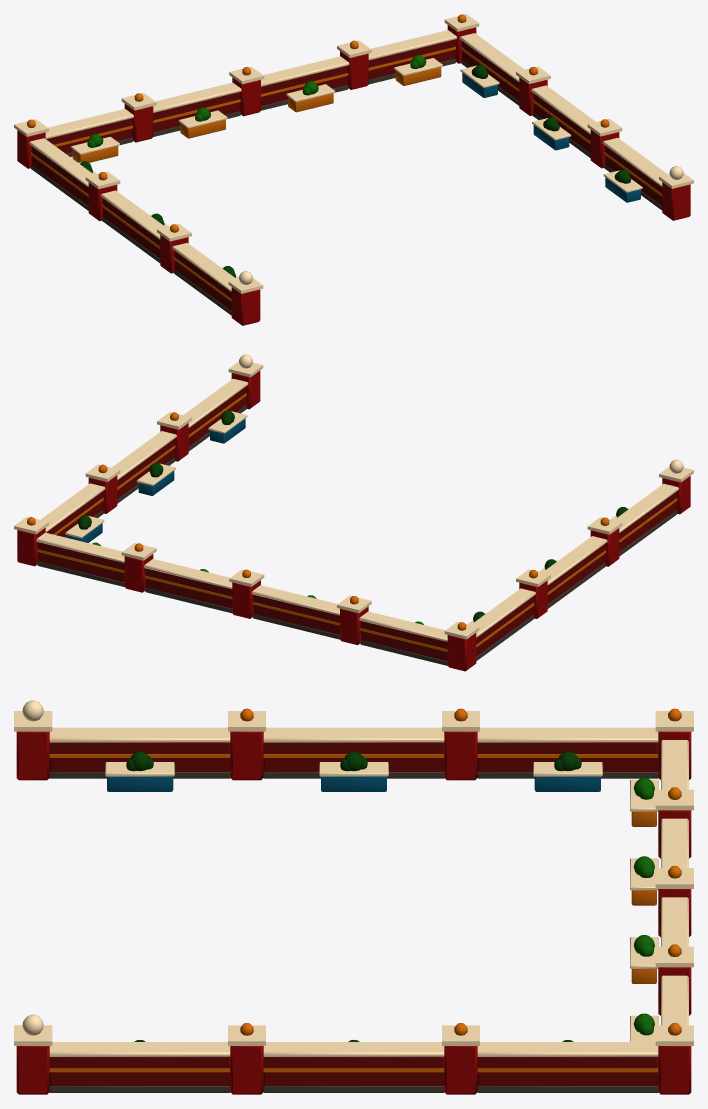
The model's file is DashWalls.obj.
The picture shows the model from 3 angles, top to bottom: view 1: azimuth 30°, elevation 25°; view 2: azimuth 150°, elevation 25°; view 3: azimuth 270°, elevation 25°; orthographic projection. The views are drawn at different scales.
Parts seen in each view (by area): view 1: DashWalls; view 2: DashWalls; view 3: DashWalls.
Boxes of the visible parts, x1,y1,x2,y2 form: DashWalls: (14, 14, 693, 325); DashWalls: (14, 354, 693, 671); DashWalls: (14, 700, 693, 1094).
Size of the model in its own units: 30.7 by 3.17 by 26.7.
